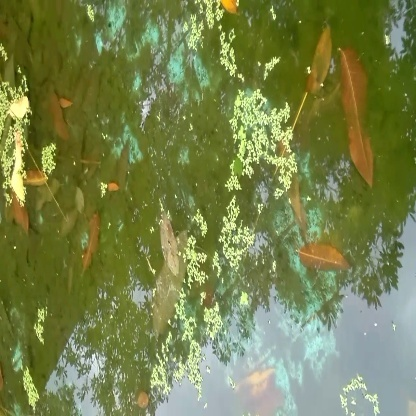leaf: (337, 45, 386, 187), (292, 238, 361, 279)
